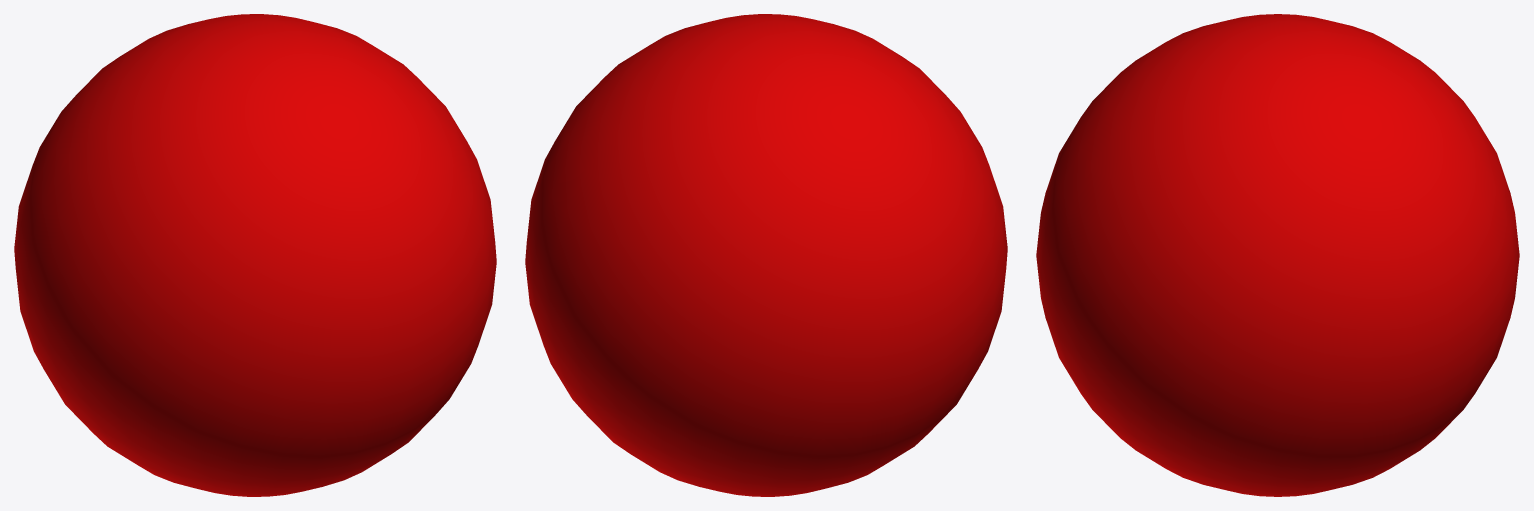
The model's file is FurLayer200.fbx.
3 renders of one model, left to right at view 1: azimuth 30°, elevation 25°; view 2: azimuth 150°, elevation 25°; view 3: azimuth 270°, elevation 25°, orthographic.
Parts seen in each view (by area): view 1: FurShell; view 2: FurShell; view 3: FurShell.
Boxes of the visible parts, x1,y1,x2,y2 form: FurShell: [14, 14, 496, 496]; FurShell: [525, 14, 1007, 496]; FurShell: [1036, 14, 1519, 496].
Bounding box in the file's own units: 1.21 × 1.21 × 1.21.
